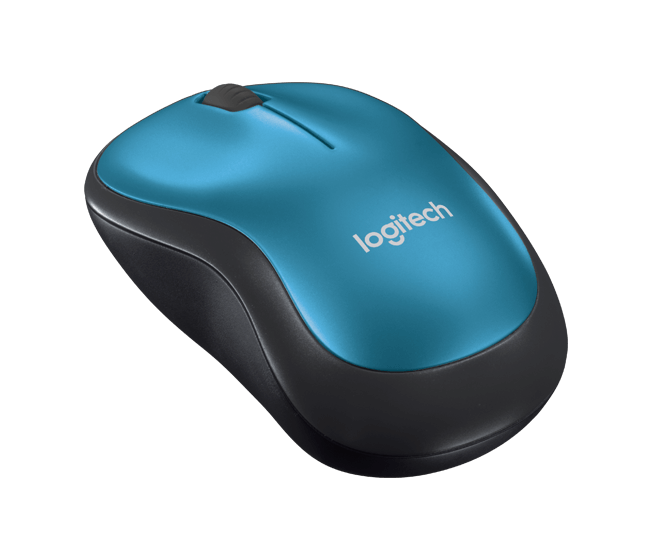logitech-mouse-m185: (77, 76, 568, 477)
